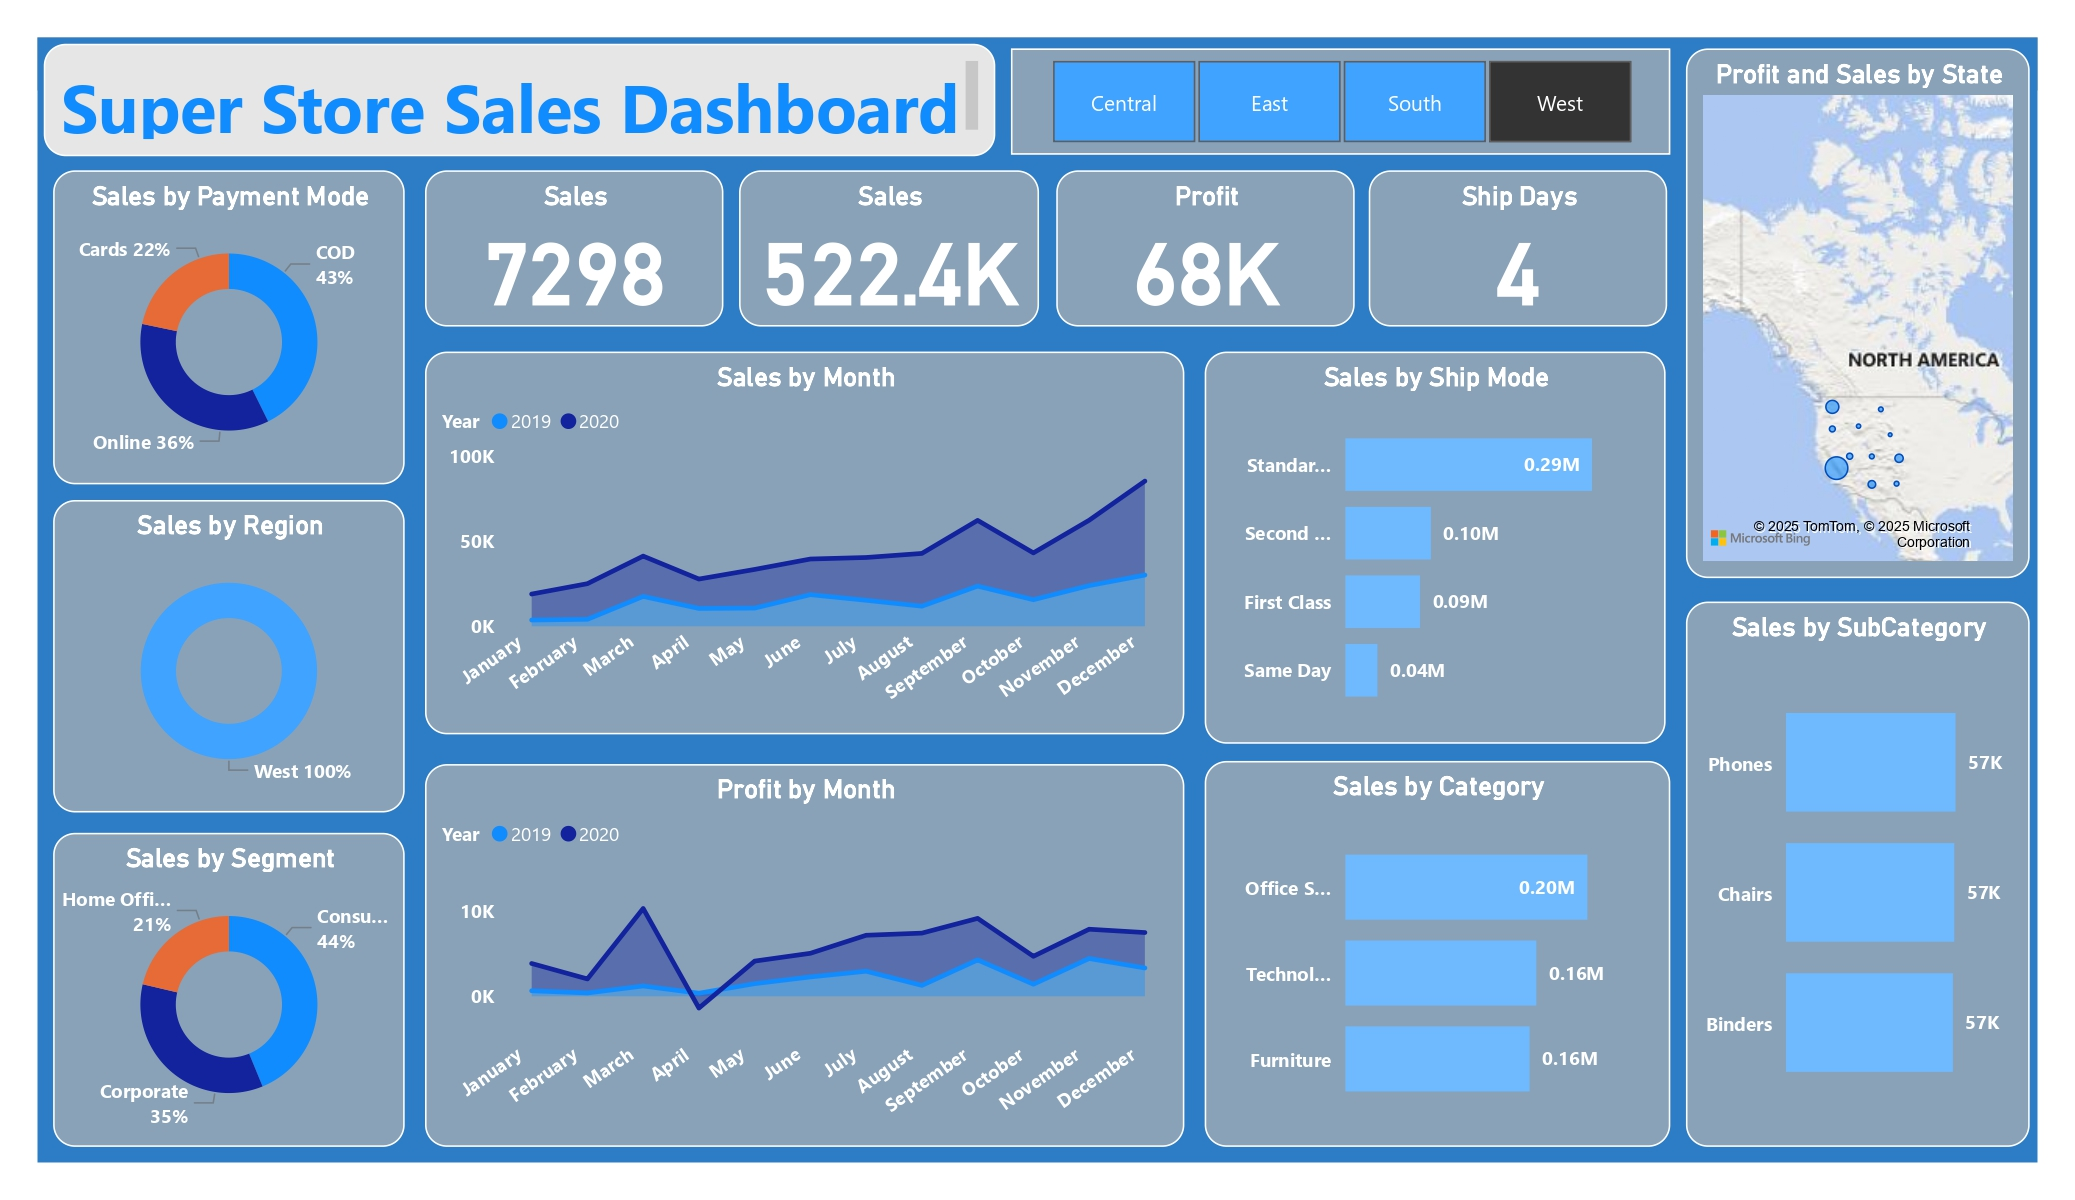

The dashboard page shown, as its layout file describes it:
{"tool":"powerbi","page":{"name":"Page 1","canvas":[1280,720],"ordinal":0},"visuals":[{"type":"clusteredBarChart","title":" Sales by Category","fields":{"Category":["SuperStore_Sales_Dataset.Category"],"Y":["Sum(SuperStore_Sales_Dataset.Sales)"]},"box":[747.4,463.1,297.2,246.7],"z":0},{"type":"clusteredBarChart","title":" Sales by SubCategory","fields":{"Y":["Sum(SuperStore_Sales_Dataset.Sales)"],"Category":["SuperStore_Sales_Dataset.Sub-Category"]},"box":[1054.7,360.7,220.7,349.1],"z":1000},{"type":"clusteredBarChart","title":" Sales by Ship Mode","fields":{"Y":["Sum(SuperStore_Sales_Dataset.Sales)"],"Category":["SuperStore_Sales_Dataset.Ship Mode"]},"box":[747.4,200.5,294.3,251],"z":2000},{"type":"stackedAreaChart","title":"Sales by Month","fields":{"Category":["SuperStore_Sales_Dataset.Order Date.Variation.Date Hierarchy.Month","SuperStore_Sales_Dataset.Order Date.Variation.Date Hierarchy.Day"],"Y":["Sum(SuperStore_Sales_Dataset.Sales)"],"Series":["SuperStore_Sales_Dataset.Order Date.Variation.Date Hierarchy.Year"]},"box":[248.2,200.5,486.2,245],"z":3000},{"type":"stackedAreaChart","title":" Profit by Month","fields":{"Category":["SuperStore_Sales_Dataset.Order Date.Variation.Date Hierarchy.Month","SuperStore_Sales_Dataset.Order Date.Variation.Date Hierarchy.Day"],"Series":["SuperStore_Sales_Dataset.Order Date.Variation.Date Hierarchy.Year"],"Y":["Sum(SuperStore_Sales_Dataset.Profit)"]},"box":[248.2,464.6,486.2,245.3],"z":4000},{"type":"map","title":"Profit and Sales by State","fields":{"Size":["Sum(SuperStore_Sales_Dataset.Sales)"],"Category":["SuperStore_Sales_Dataset.State"]},"box":[1054.7,7.2,220.7,339],"z":5000},{"type":"donutChart","title":"Sales by Segment","fields":{"Category":["SuperStore_Sales_Dataset.Segment"],"Y":["Sum(SuperStore_Sales_Dataset.Sales)"]},"box":[10.1,509.3,225.1,200.5],"z":6000},{"type":"donutChart","title":"Sales by Region","fields":{"Y":["Sum(SuperStore_Sales_Dataset.Sales)"],"Category":["SuperStore_Sales_Dataset.Region"]},"box":[10.1,295.8,225.1,200.5],"z":7000},{"type":"slicer","fields":{"Values":["SuperStore_Sales_Dataset.Region"]},"box":[623.3,6.7,421.7,68.3],"z":8000},{"type":"card","title":"Sales","fields":{"Values":["Sum(SuperStore_Sales_Dataset.Sales)"]},"box":[448.7,85.1,191.9,100],"z":9000},{"type":"card","title":"Sales","fields":{"Values":["Sum(SuperStore_Sales_Dataset.Quantity)"]},"box":[248.2,85.1,190.4,100],"z":10000},{"type":"card","title":"Profit","fields":{"Values":["Sum(SuperStore_Sales_Dataset.Profit)"]},"box":[652.1,85.1,190.4,100],"z":11000},{"type":"card","title":"Ship Days","fields":{"Values":["Avg(SuperStore_Sales_Dataset.AvgDelivery)"]},"box":[851.7,85,191,100],"z":12000},{"type":"textbox","box":[4.3,4.3,608.8,72.1],"z":13000},{"type":"donutChart","title":"Sales by Payment Mode","fields":{"Y":["Sum(SuperStore_Sales_Dataset.Sales)"],"Category":["SuperStore_Sales_Dataset.Payment Mode"]},"box":[10.1,85.1,225.1,200.5],"z":14000}]}

Visuals, with their boxes in screenshot pixels (x1, y1, x2, y2):
" Sales by Category" clusteredBarChart: l=1205, t=761, r=1670, b=1147
" Sales by SubCategory" clusteredBarChart: l=1685, t=601, r=2030, b=1147
" Sales by Ship Mode" clusteredBarChart: l=1205, t=351, r=1665, b=743
"Sales by Month" stackedAreaChart: l=425, t=351, r=1185, b=734
" Profit by Month" stackedAreaChart: l=425, t=763, r=1185, b=1147
"Profit and Sales by State" map: l=1685, t=49, r=2030, b=578
"Sales by Segment" donutChart: l=53, t=833, r=405, b=1147
"Sales by Region" donutChart: l=53, t=500, r=405, b=813
slicer - SuperStore_Sales_Dataset.Region: l=1011, t=48, r=1670, b=155
"Sales" card: l=739, t=170, r=1038, b=327
"Sales" card: l=425, t=170, r=723, b=327
"Profit" card: l=1056, t=170, r=1354, b=327
"Ship Days" card: l=1368, t=170, r=1667, b=327
textbox: l=44, t=44, r=995, b=157
"Sales by Payment Mode" donutChart: l=53, t=170, r=405, b=484
